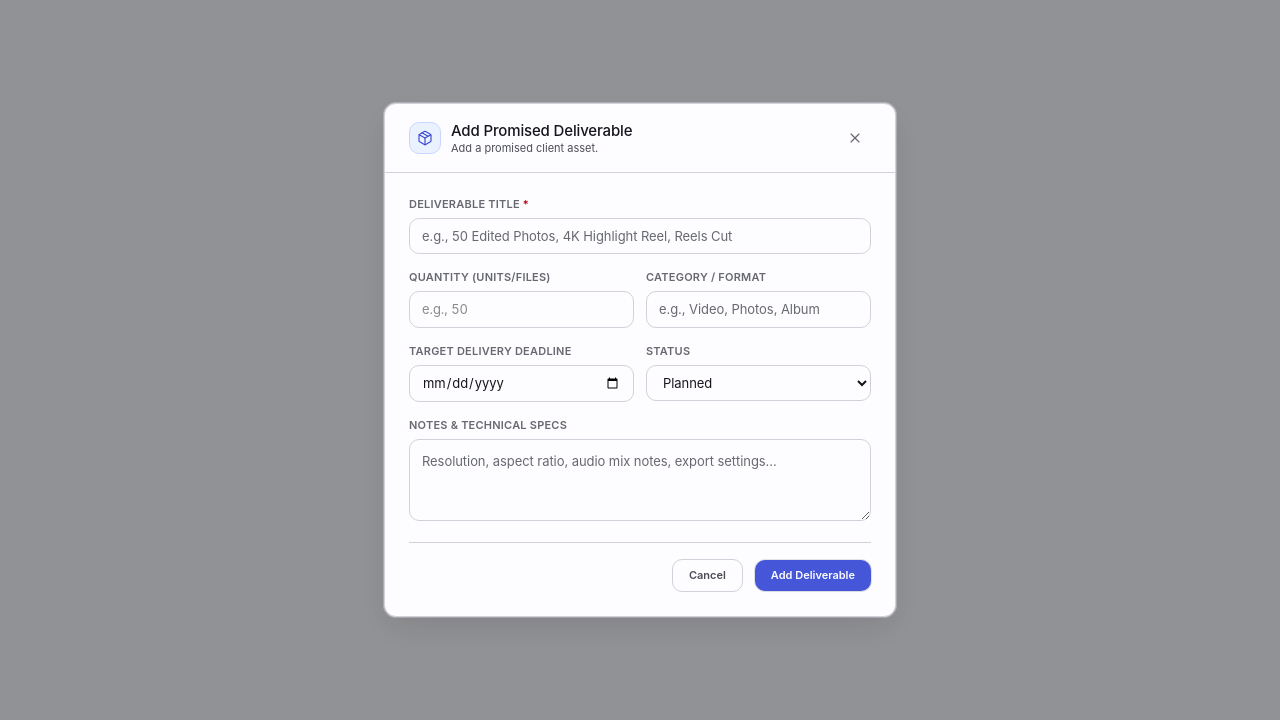
Test: DeliverableFormModal (DELIV-REQ-002) › shows validation error when title is too short
Type "A" into the field labelled "Deliverable Title *" at (640, 236), box [409, 218, 871, 254]
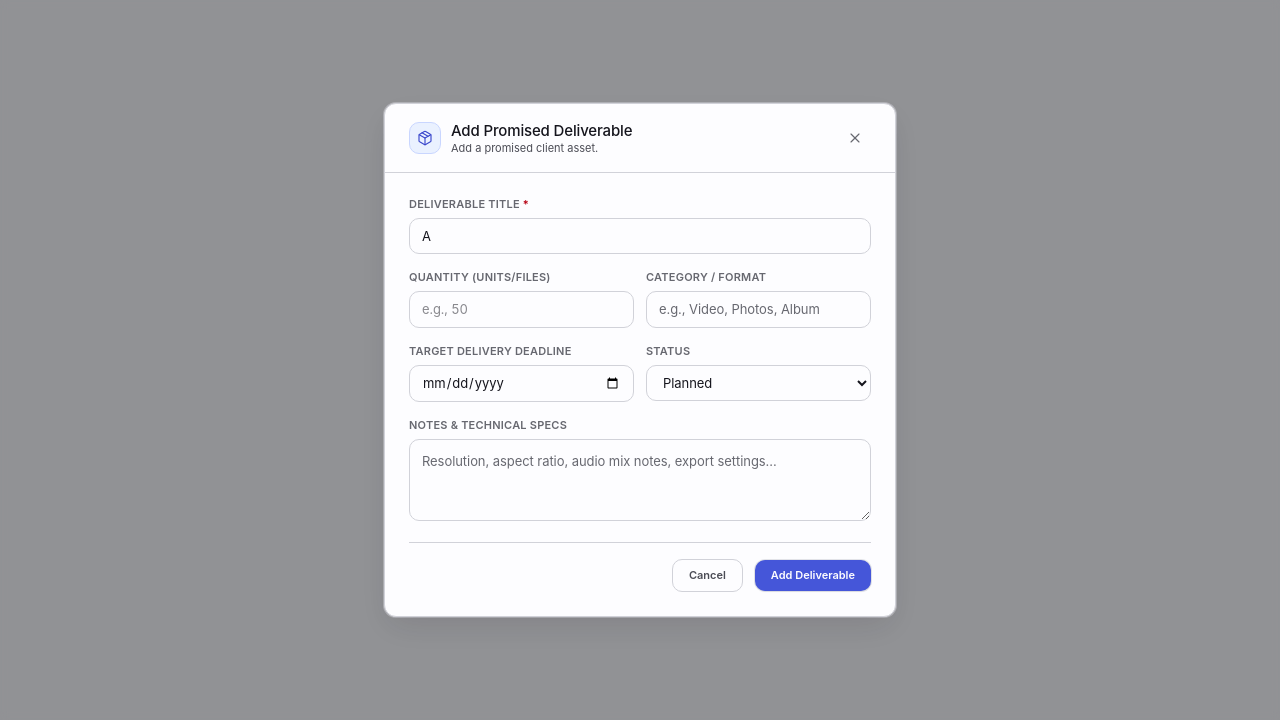
Click the button with test id "deliverable-submit-btn" at (813, 576), box [755, 560, 871, 591]
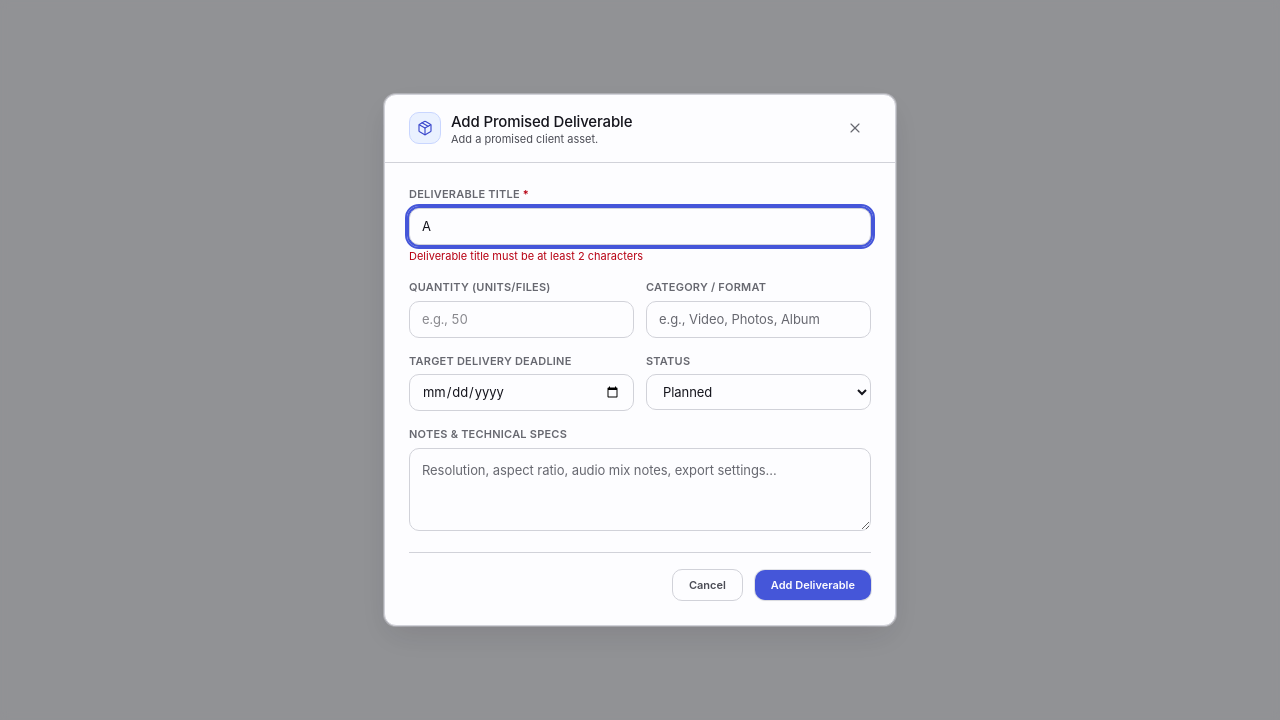
Expected: the text "Deliverable title must be at least 2 characters" is shown, [409, 249, 643, 263]
